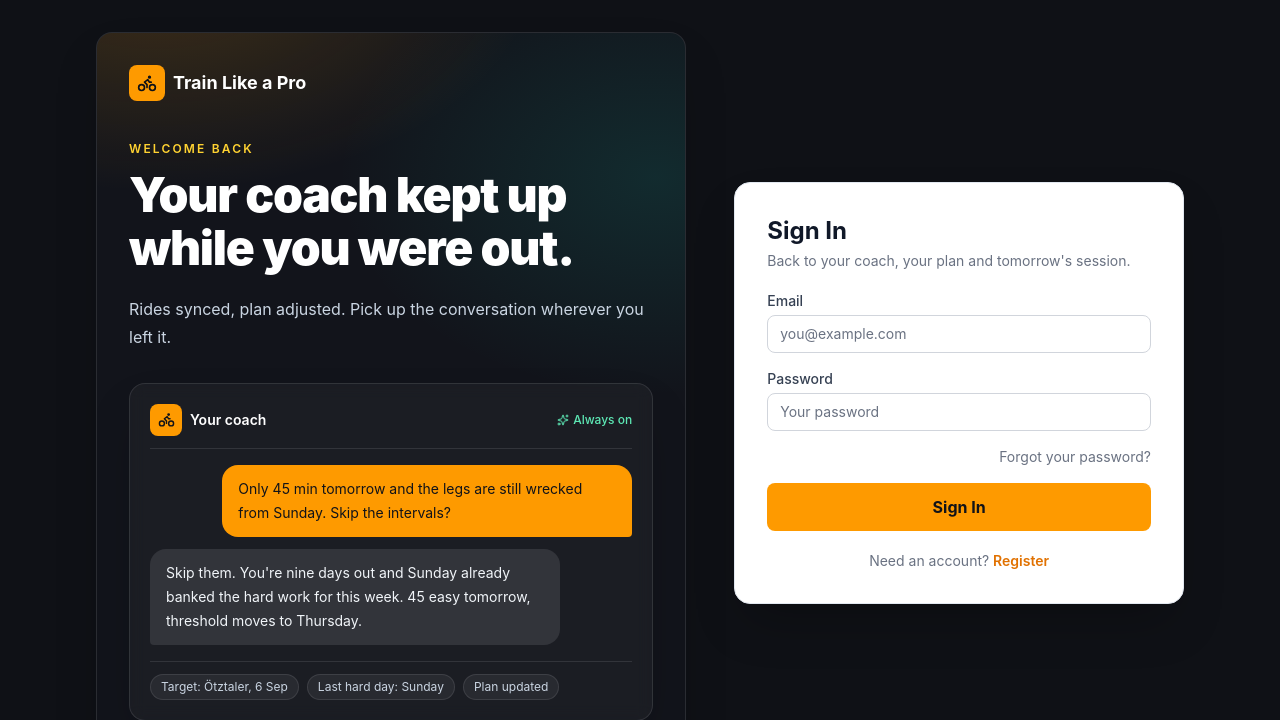
Test: LoginPage › shows an error message when login fails
Type "bad@example.com" into the field with placeholder "you@example.com" at (959,334), box [767, 315, 1151, 353]
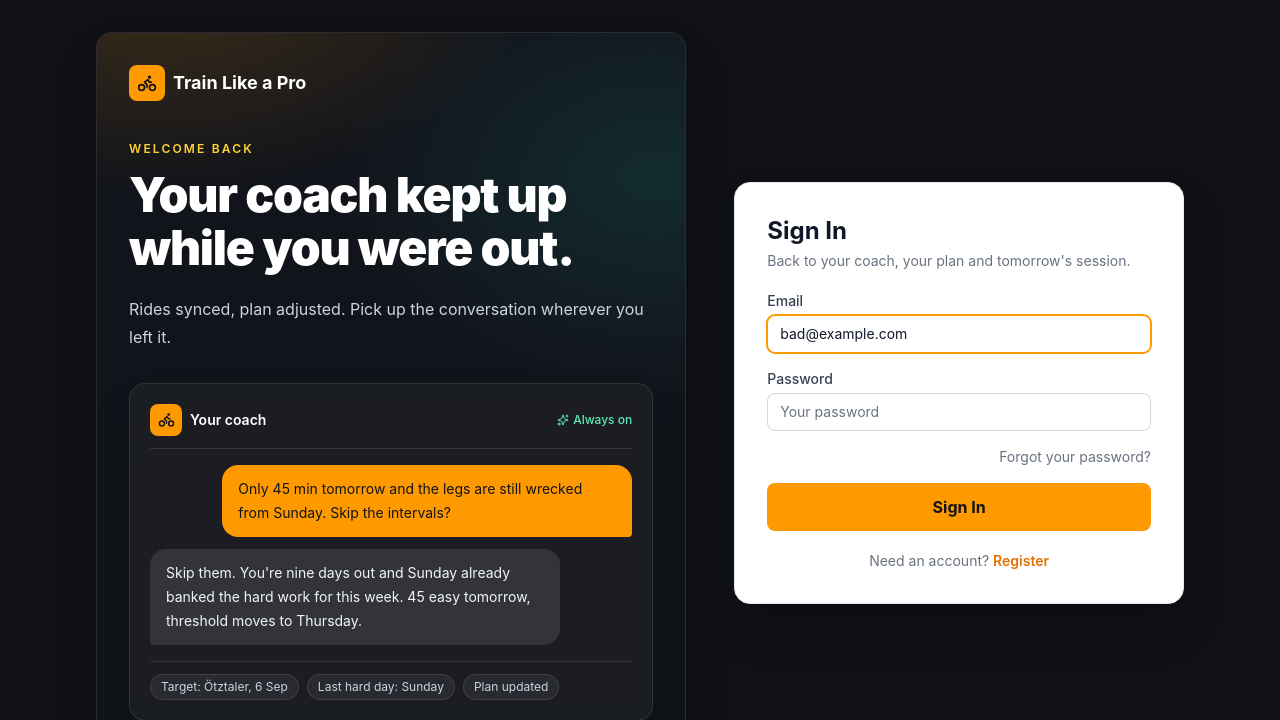
Type "wrongpass" into the password field with placeholder "Your password" at (959,412), box [767, 393, 1151, 431]
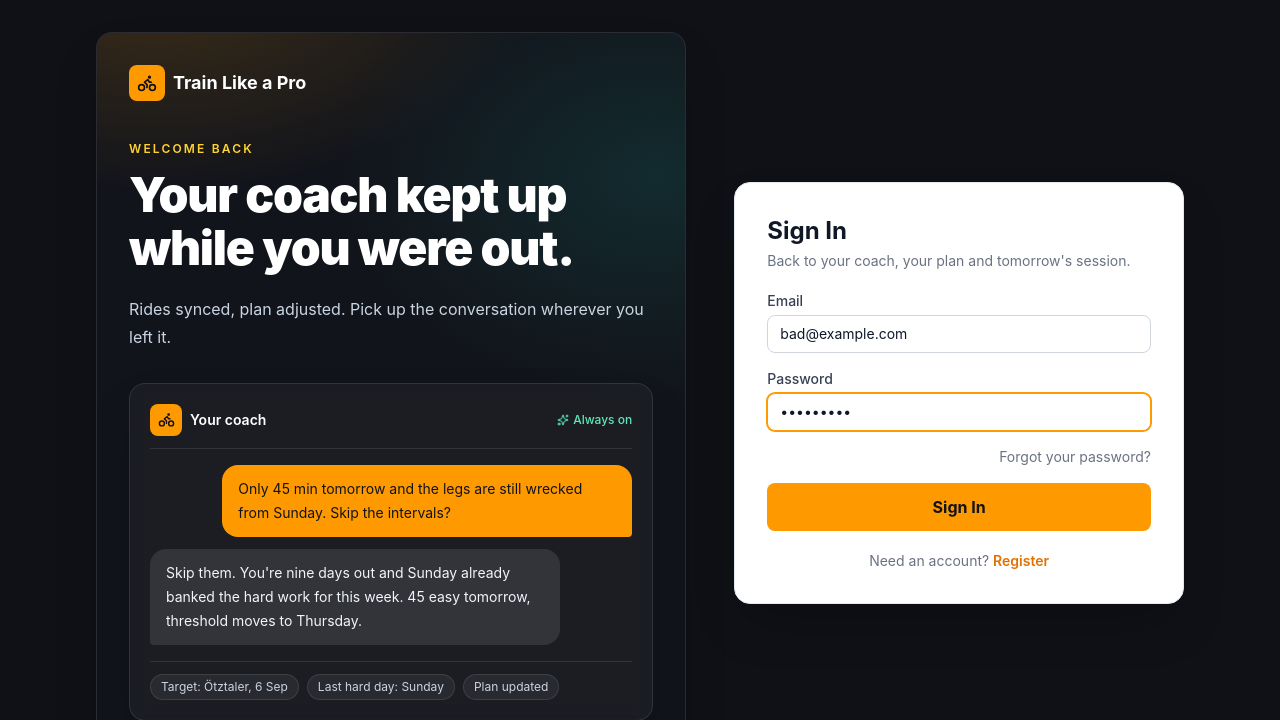
Click the button "Sign In" at (959,507), box [767, 483, 1151, 531]
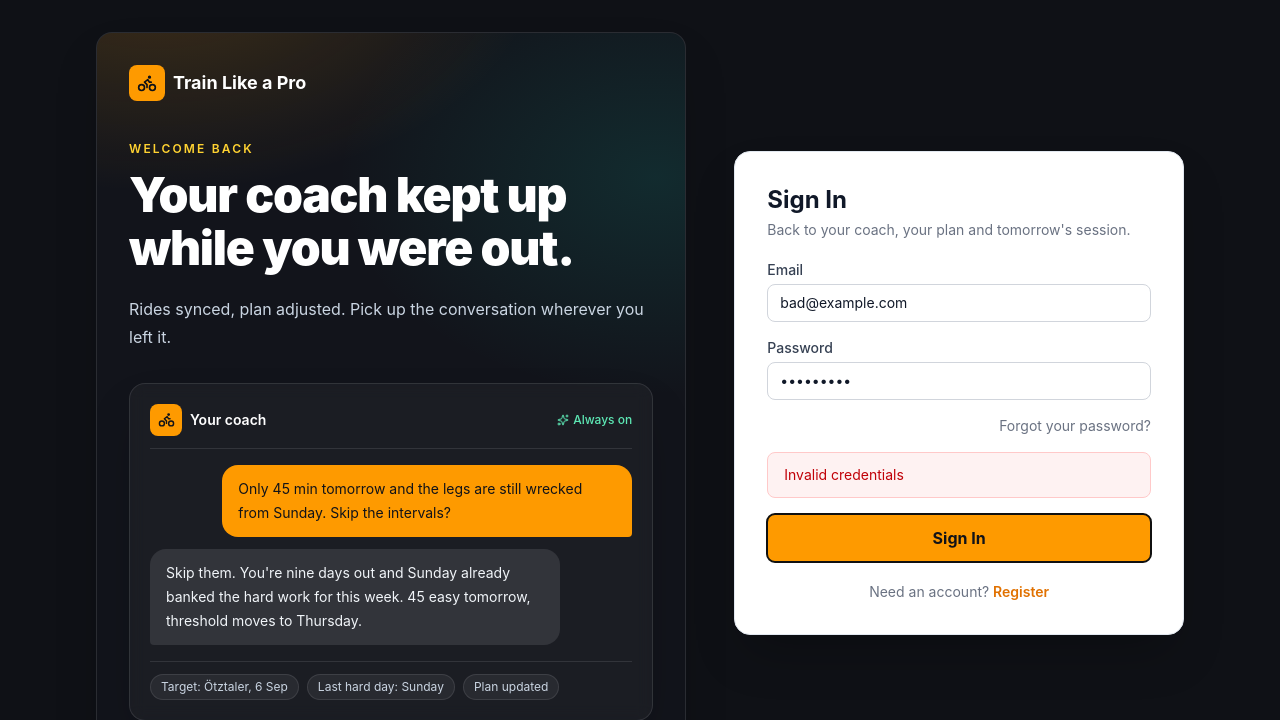
Expected: the text "Invalid credentials" is shown, [767, 452, 1151, 498]
